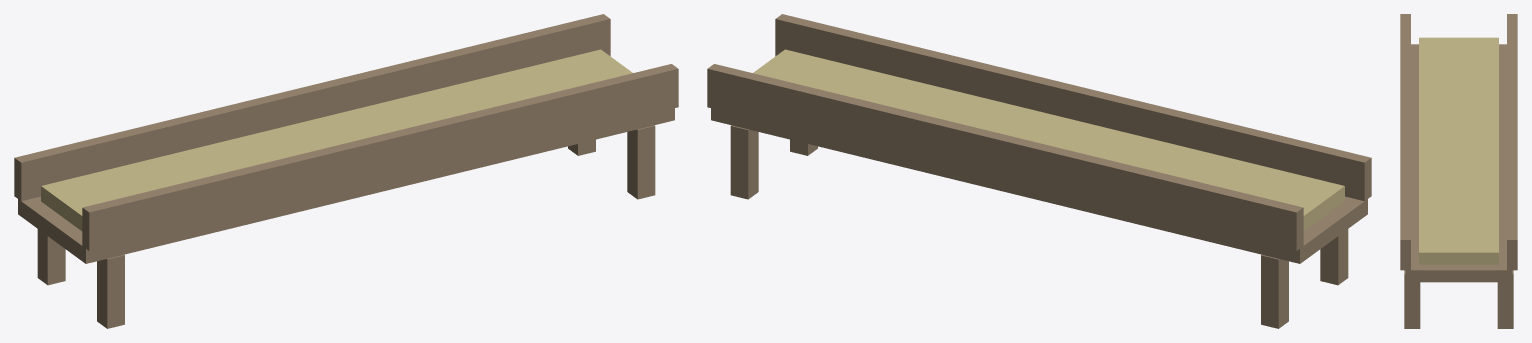
The model's file is feed_bunk.glb.
The picture shows the model from 3 angles, left to right: view 1: azimuth 30°, elevation 25°; view 2: azimuth 150°, elevation 25°; view 3: azimuth 270°, elevation 25°; orthographic projection. The views are drawn at different scales.
Visible parts, largest first — view 1: feed_bunk; view 2: feed_bunk; view 3: feed_bunk.
Boxes of the visible parts, x1,y1,x2,y2 form: feed_bunk: (14, 14, 678, 328); feed_bunk: (707, 14, 1371, 328); feed_bunk: (1400, 14, 1517, 328).
Bounding box in the file's own units: 4 × 0.8 × 0.88.
